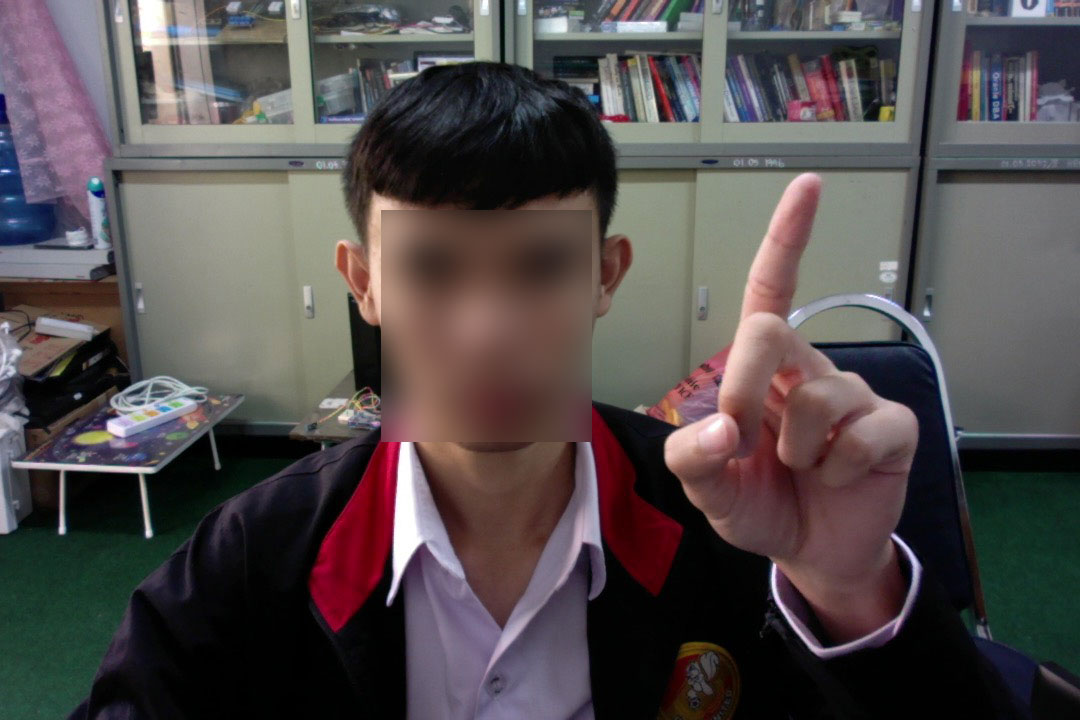dor: (651, 163, 946, 590)
